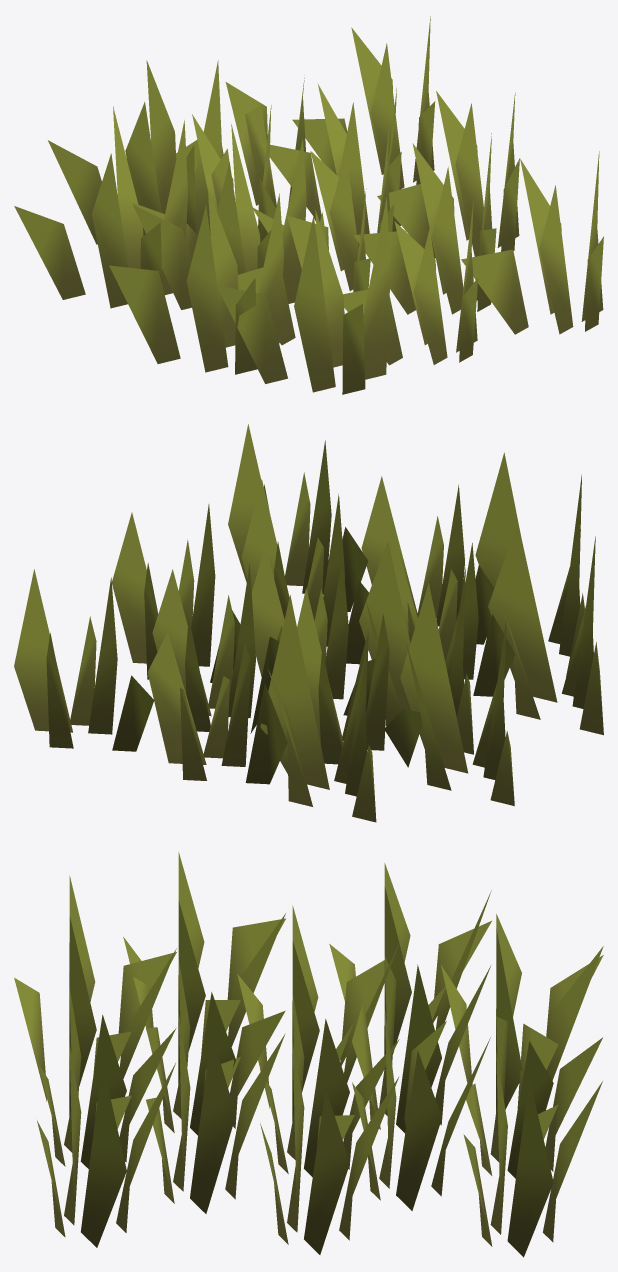
The model's file is Plant_03.fbx.
3 renders of one model, top to bottom at view 1: azimuth 30°, elevation 25°; view 2: azimuth 150°, elevation 25°; view 3: azimuth 270°, elevation 25°, orthographic. The views are drawn at different scales.
Parts seen in each view (by area): view 1: Plant_03; view 2: Plant_03; view 3: Plant_03.
Boxes of the visible parts, bbox=[...] form: Plant_03: bbox=[14, 16, 603, 394]; Plant_03: bbox=[14, 424, 603, 822]; Plant_03: bbox=[14, 852, 603, 1257].
Bounding box in the file's own units: 1.31 × 0.5037 × 1.31.
